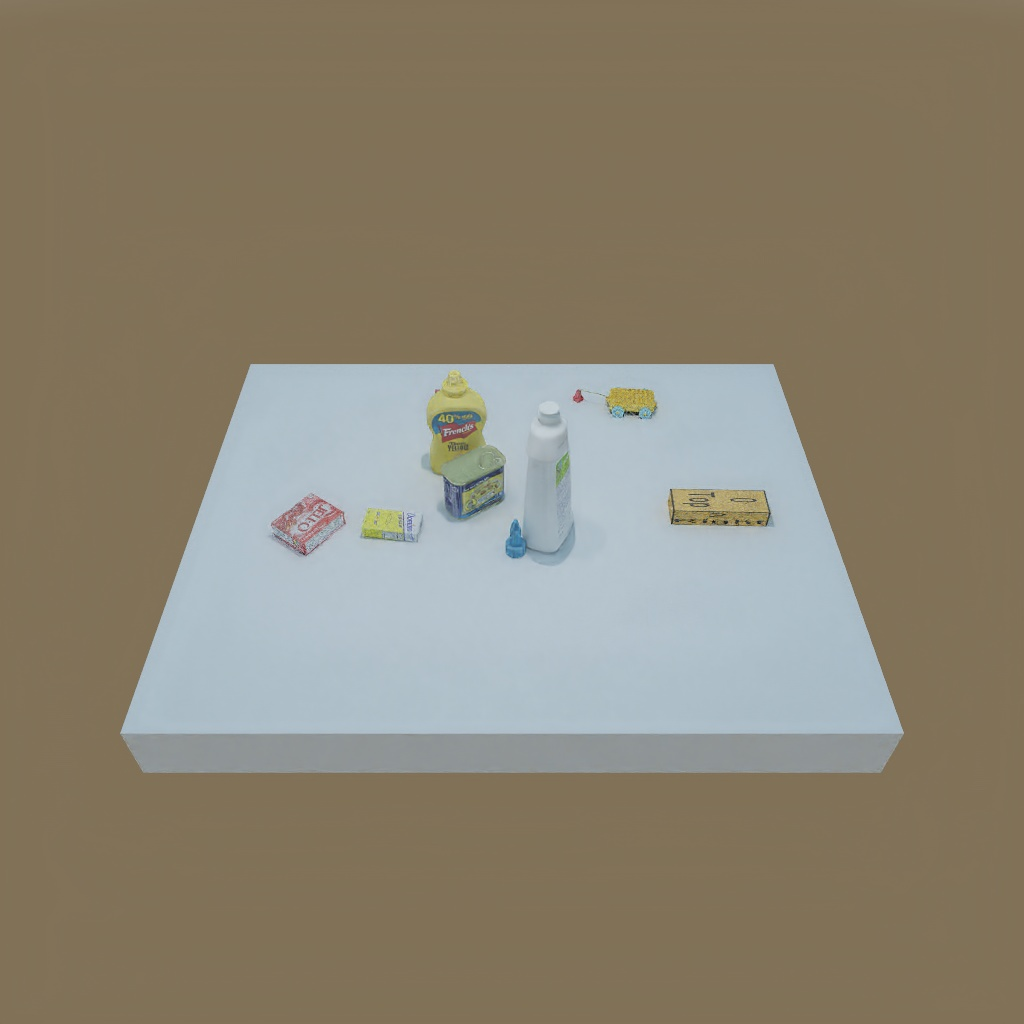gelatin_box: (275, 492, 346, 556)
jenga: (663, 479, 784, 535)
mustard_bottle: (424, 373, 491, 473)
potted_meat_can: (443, 445, 505, 518)
